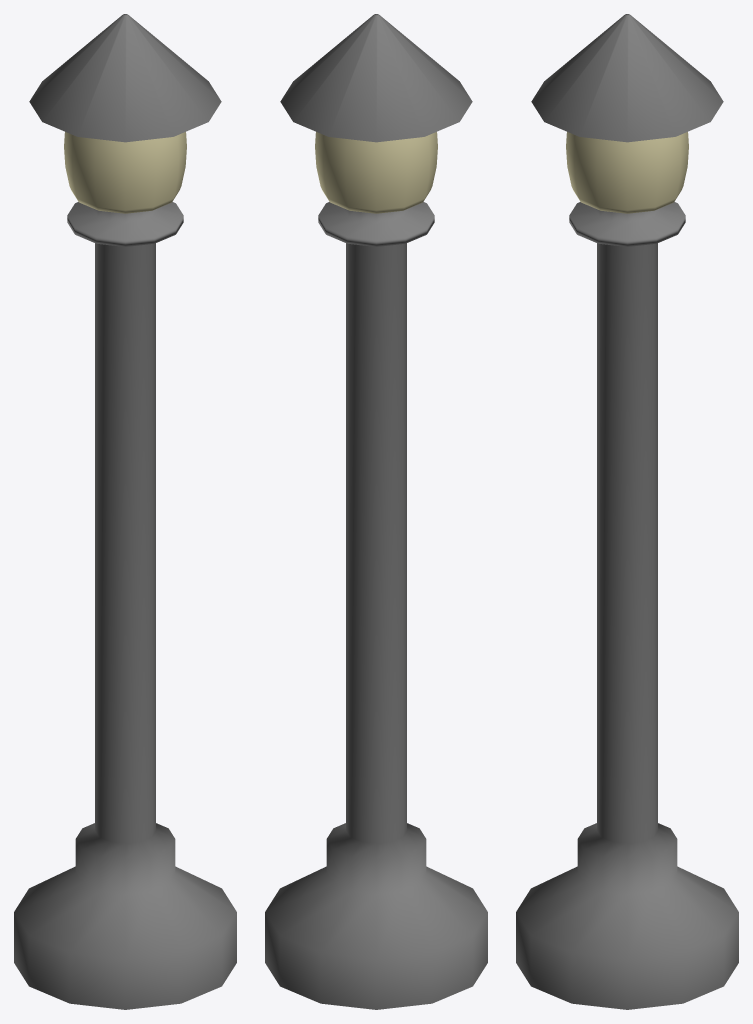
File: poste_lisbela.fbx
3 views of the same model, side by side, from view 1: azimuth 30°, elevation 25°; view 2: azimuth 150°, elevation 25°; view 3: azimuth 270°, elevation 25° (orthographic).
Visible parts, largest first — view 1: pCylinder4; view 2: pCylinder4; view 3: pCylinder4.
Part boxes in pixels (bbox=[...]): pCylinder4: bbox=[14, 14, 236, 1009]; pCylinder4: bbox=[265, 14, 487, 1009]; pCylinder4: bbox=[516, 14, 738, 1009].
Bounding box in the file's own units: 120 × 562 × 120.
